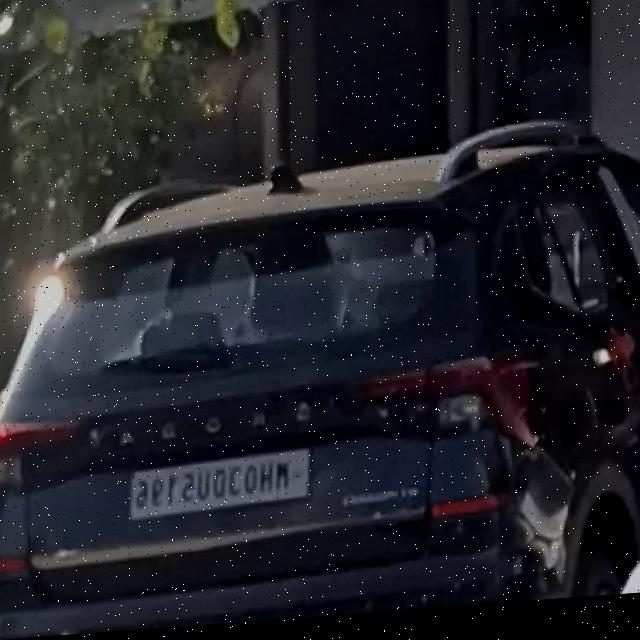plate: (128, 449, 313, 524)
